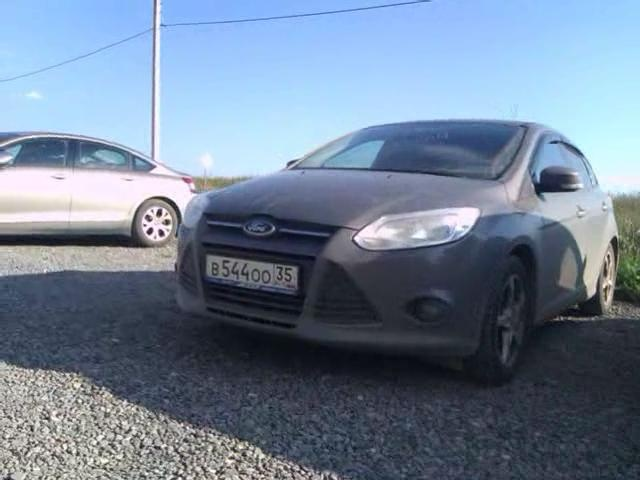car license plate: (203, 252, 304, 299)
